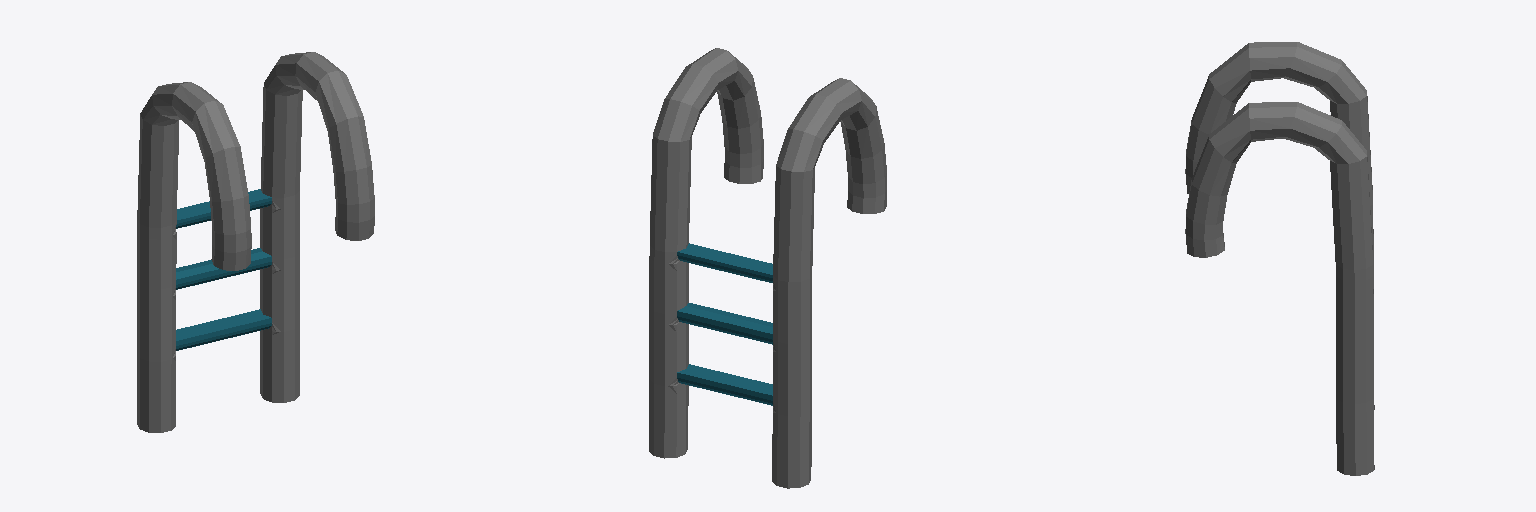
Rendered from Ladder_Texture.obj.
3 views of the same model, side by side, from view 1: azimuth 30°, elevation 25°; view 2: azimuth 150°, elevation 25°; view 3: azimuth 270°, elevation 25° (orthographic).
Visible parts, largest first — view 1: Ladder; view 2: Ladder; view 3: Ladder.
Boxes of the visible parts, box(x1,y1,x2,y2) form: Ladder: box(137, 52, 374, 432); Ladder: box(649, 48, 886, 488); Ladder: box(1185, 42, 1374, 475).
Size of the model in its own units: 0.5769 by 1.27 by 0.5978.